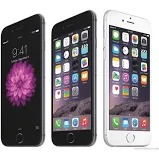iphone: (102, 8, 151, 149), (49, 8, 98, 149), (1, 12, 45, 149)
iphone6: (49, 7, 97, 148), (103, 6, 151, 147), (1, 12, 45, 149)
